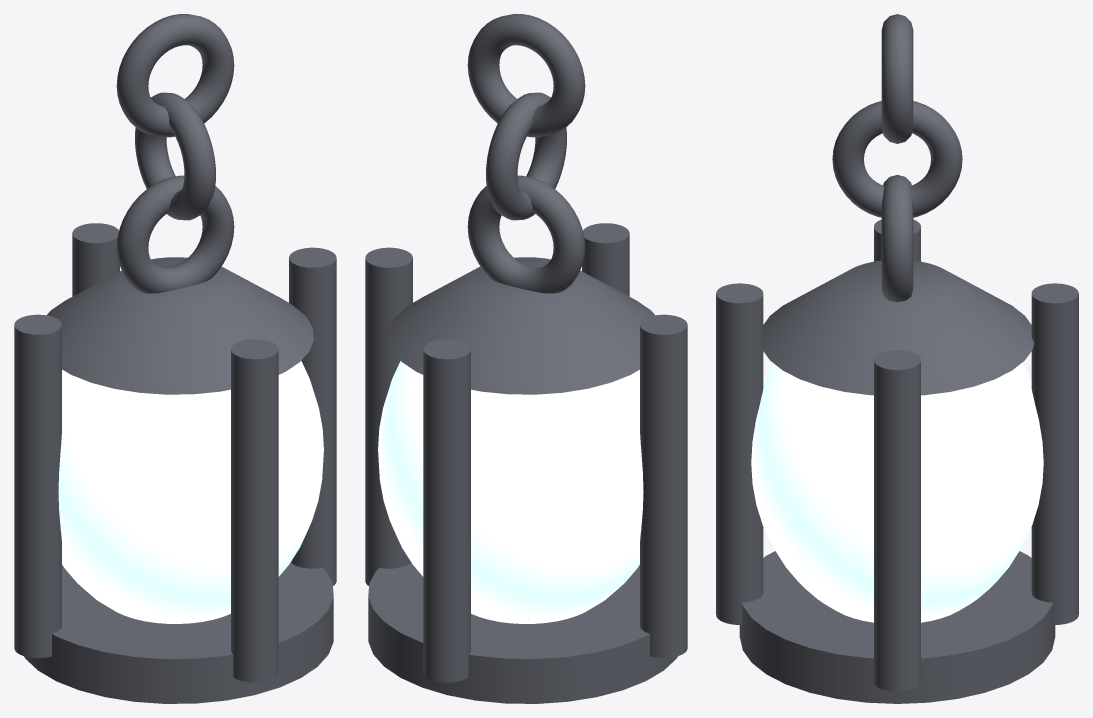
Rendered from thresh_lantern.glb.
3 renders of one model, left to right at view 1: azimuth 30°, elevation 25°; view 2: azimuth 150°, elevation 25°; view 3: azimuth 270°, elevation 25°, orthographic.
Parts seen in each view (by area): view 1: thresh_lantern; view 2: thresh_lantern; view 3: thresh_lantern.
Part boxes in pixels (x1=…): thresh_lantern: x1=14, y1=14, x2=336, y2=703; thresh_lantern: x1=365, y1=14, x2=687, y2=703; thresh_lantern: x1=716, y1=14, x2=1078, y2=703.
Size of the model in its own units: 0.184 by 0.3455 by 0.184.
